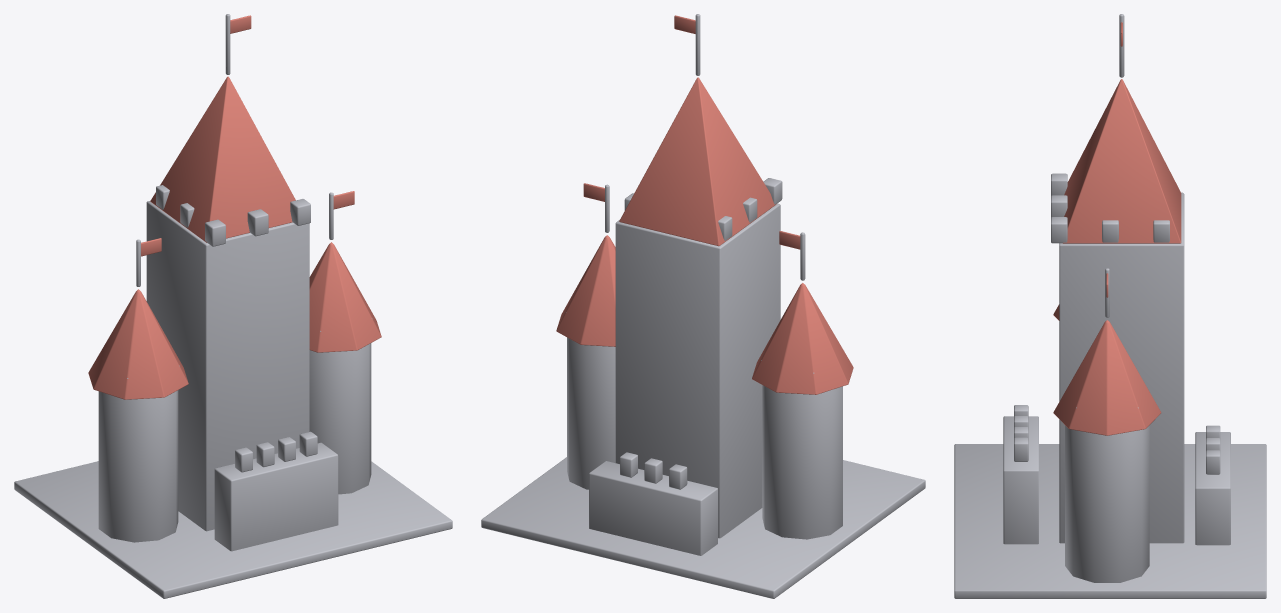
File: castle_t3.glb
The picture shows the model from 3 angles, left to right: view 1: azimuth 30°, elevation 25°; view 2: azimuth 150°, elevation 25°; view 3: azimuth 270°, elevation 25°; orthographic projection. The views are drawn at different scales.
Parts seen in each view (by area): view 1: stone, roof; view 2: stone, roof; view 3: stone, roof.
Boxes of the visible parts, x1=… form: stone: x1=14, y1=14, x2=452, y2=598; roof: x1=88, y1=15, x2=381, y2=399; stone: x1=481, y1=14, x2=925, y2=598; roof: x1=556, y1=15, x2=853, y2=394; stone: x1=954, y1=14, x2=1266, y2=598; roof: x1=1053, y1=22, x2=1181, y2=435.
Bounding box in the file's own units: 3.12 × 5.06 × 2.8.
